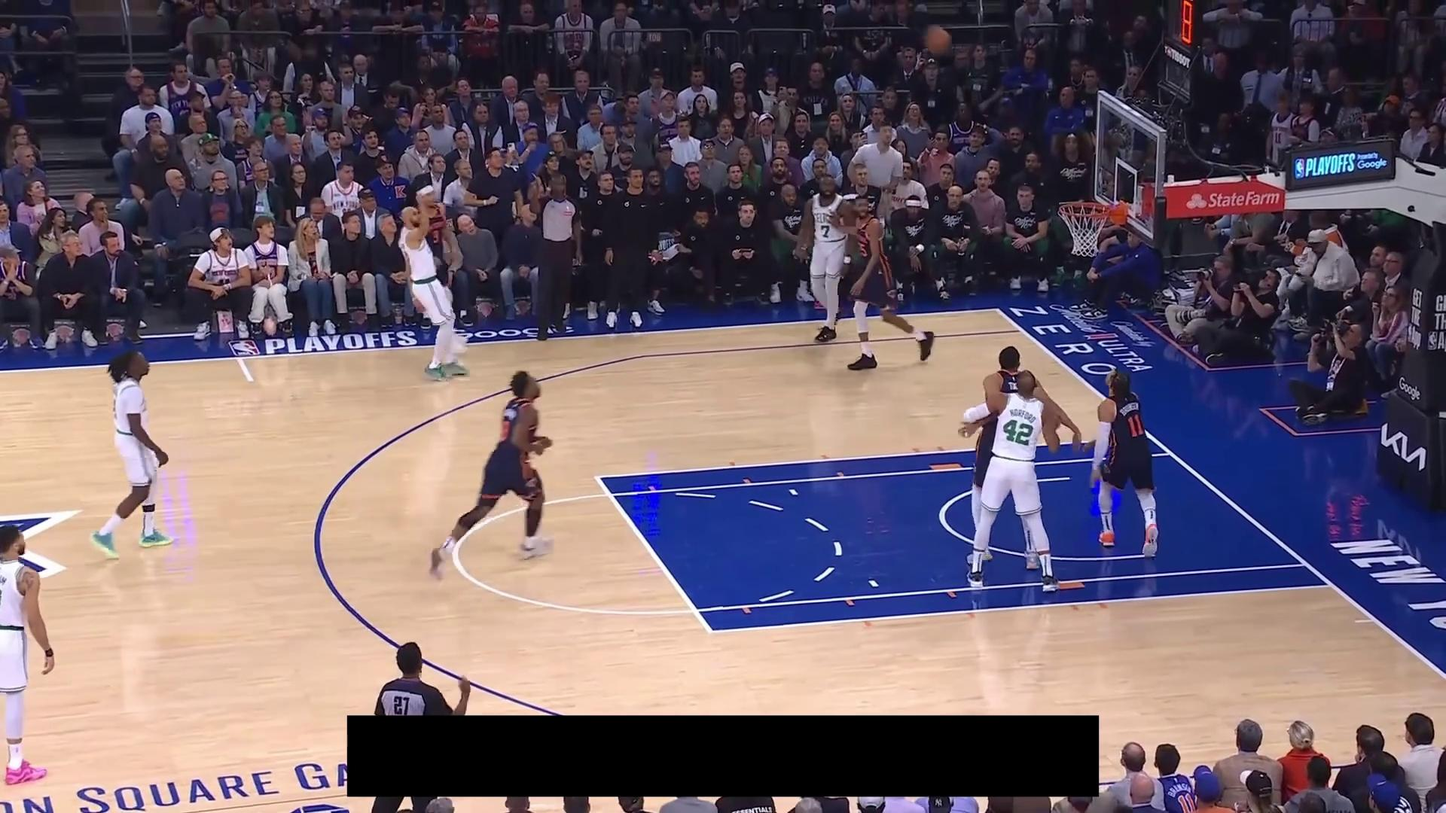ball: (923, 24, 952, 55)
number: (1002, 419, 1033, 446), (1127, 413, 1144, 438), (498, 419, 511, 443), (819, 223, 831, 239), (432, 226, 440, 244)
player: (959, 345, 1082, 569), (428, 370, 557, 583), (965, 370, 1063, 593), (90, 347, 176, 562), (834, 192, 935, 372), (1079, 366, 1162, 558), (0, 523, 57, 787), (398, 194, 470, 380), (794, 172, 861, 344), (415, 182, 468, 354)
referee: (374, 641, 469, 813), (528, 171, 584, 341)
rim: (1057, 201, 1111, 218)
